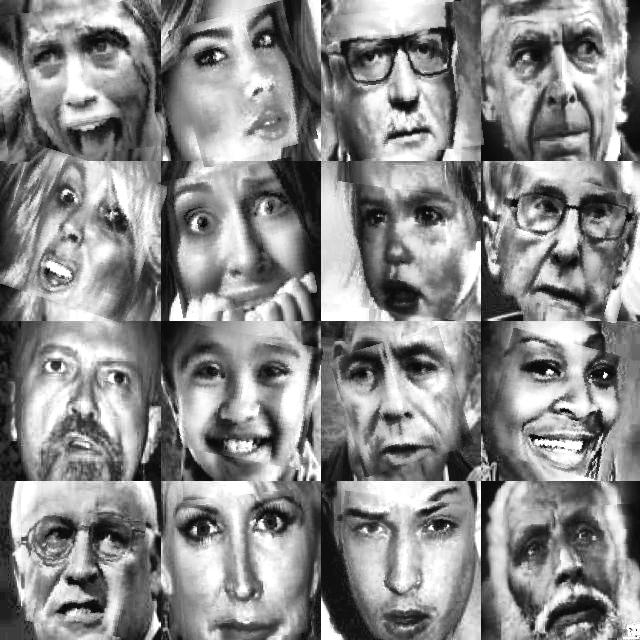angry: (5, 345, 161, 477), (23, 509, 142, 634)
fear: (0, 152, 158, 315), (0, 2, 162, 159), (163, 163, 312, 313), (325, 186, 479, 318)
happy: (488, 336, 634, 476), (177, 329, 318, 465)
neutral: (328, 4, 480, 158), (486, 6, 638, 152), (488, 171, 640, 315), (176, 6, 310, 161), (175, 491, 308, 640), (331, 493, 464, 640), (337, 333, 467, 471)
sad: (510, 505, 640, 640)
